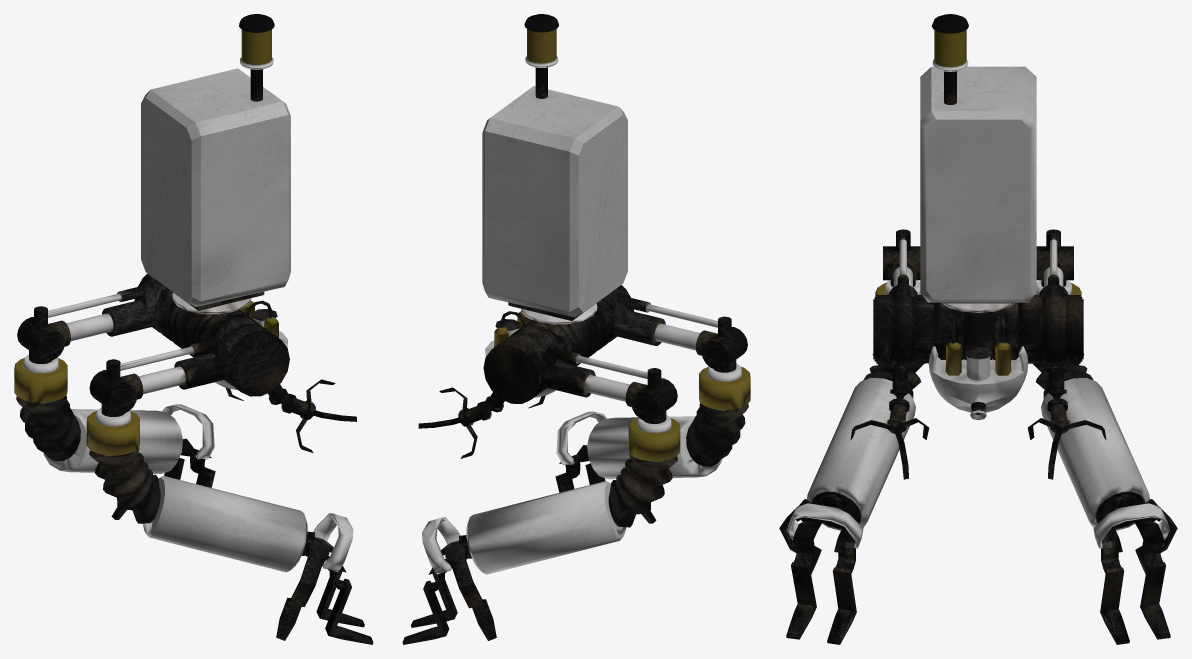
File: pod.obj
3 views of the same model, side by side, from view 1: azimuth 30°, elevation 25°; view 2: azimuth 150°, elevation 25°; view 3: azimuth 270°, elevation 25° (orthographic). The views are drawn at different scales.
Visible parts, largest first — view 1: Object_2; view 2: Object_2; view 3: Object_2.
Part boxes in pixels (box(x1,y1,x2,y2)): Object_2: box(14, 14, 373, 644); Object_2: box(402, 14, 750, 644); Object_2: box(779, 14, 1177, 644).
Bounding box in the file's own units: 2.63 × 5.71 × 3.43.
